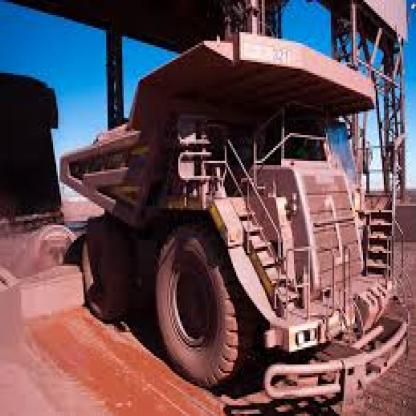dump_truck: (46, 43, 414, 412)
